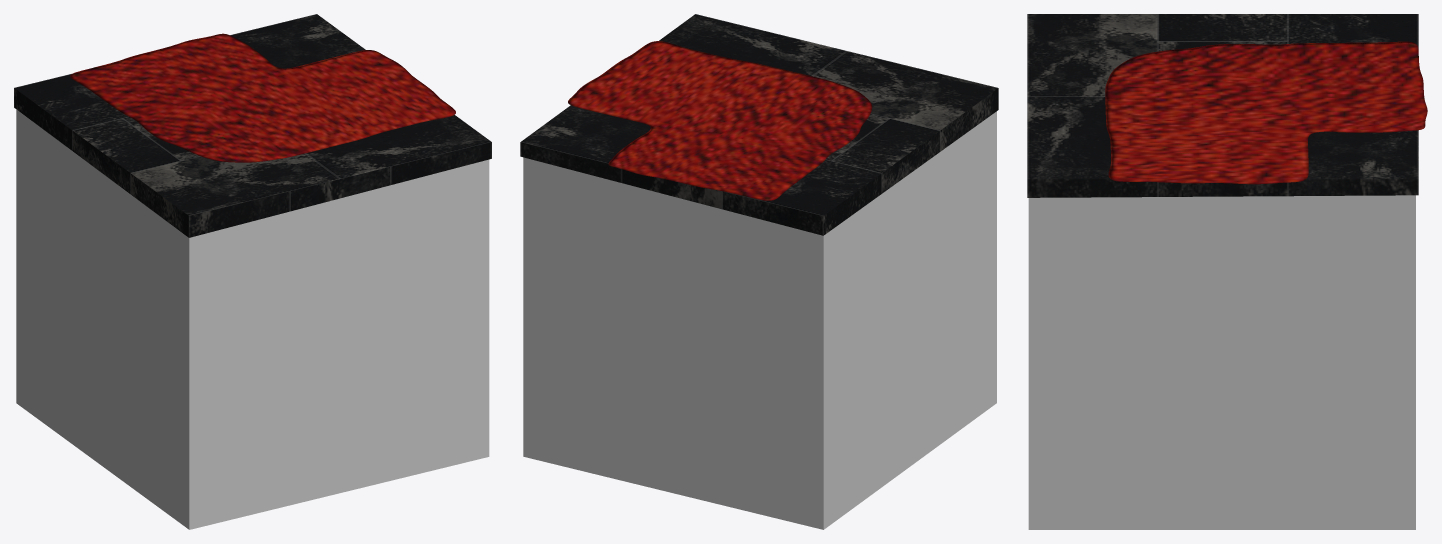
Rendered from path curve new.glb.
3 renders of one model, left to right at view 1: azimuth 30°, elevation 25°; view 2: azimuth 150°, elevation 25°; view 3: azimuth 270°, elevation 25°, orthographic. The views are drawn at different scales.
Visible parts, largest first — view 1: Cube.008; view 2: Cube.008; view 3: Cube.008.
Boxes of the visible parts, x1,y1,x2,y2 form: Cube.008: [14, 14, 491, 529]; Cube.008: [520, 14, 998, 529]; Cube.008: [1027, 14, 1427, 529].
Bounding box in the file's own units: 2.09 × 2.01 × 2.07.
3 materials, 2 textured.
